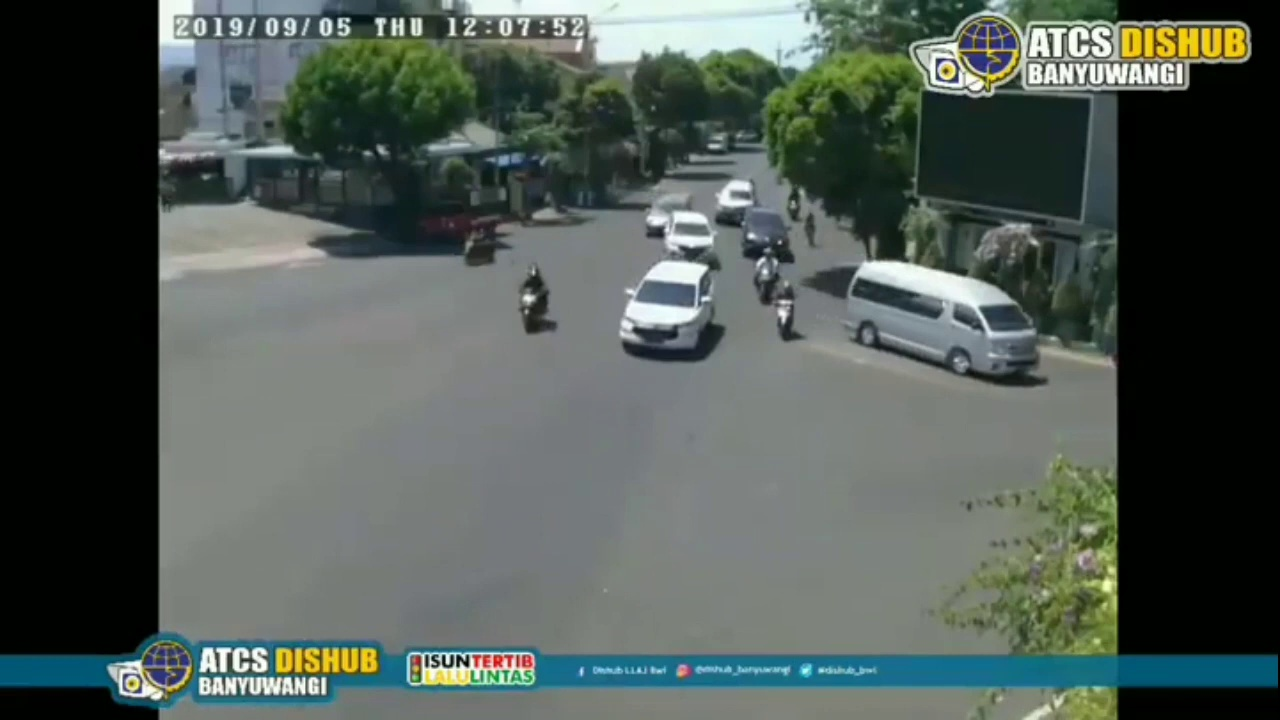car: (846, 257, 1037, 386), (619, 261, 723, 363), (664, 209, 718, 268), (740, 206, 790, 263), (646, 192, 693, 241), (715, 181, 758, 230)
motorbike: (522, 268, 552, 334), (756, 247, 777, 307), (776, 281, 796, 341)
